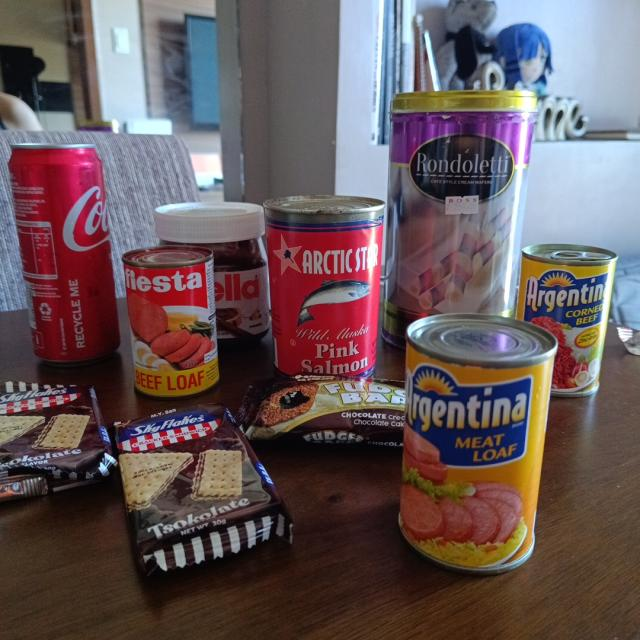coke: (10, 142, 122, 363)
